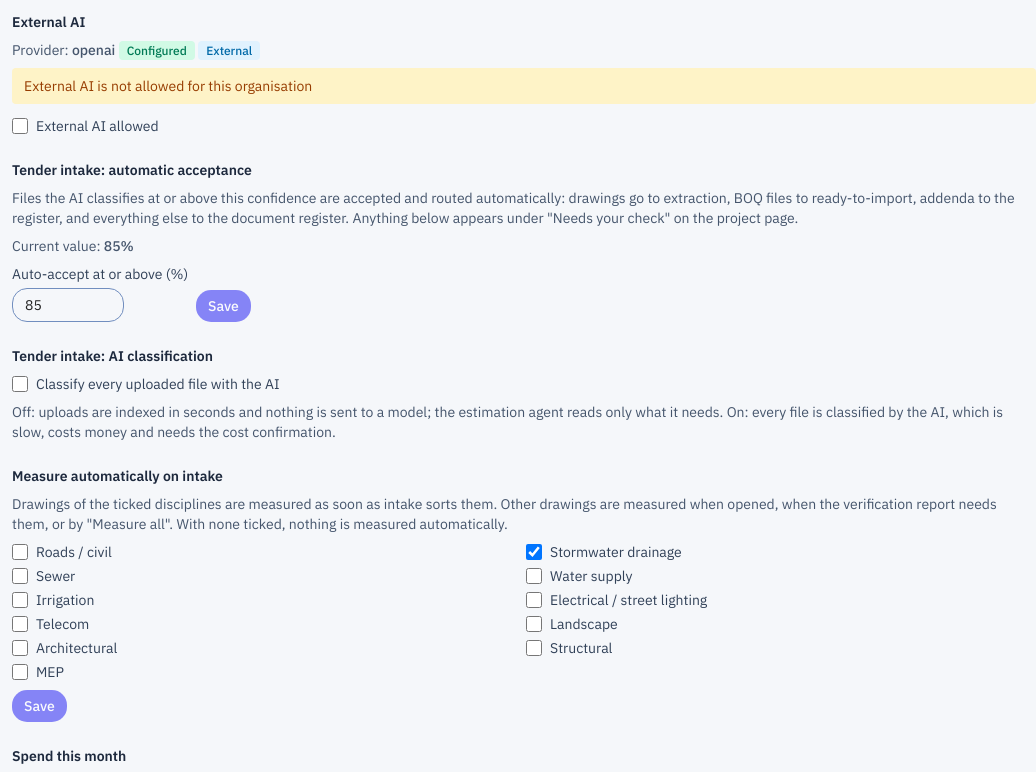
Test: AiAdmin › intake auto-accept › lets the managing director save a new value
The image size is (1036, 772).
Step 1. Replace the text in the number field labelled "Auto-accept at or above (%)" with "90" → (68, 305), box left=12, top=288, right=124, bottom=322
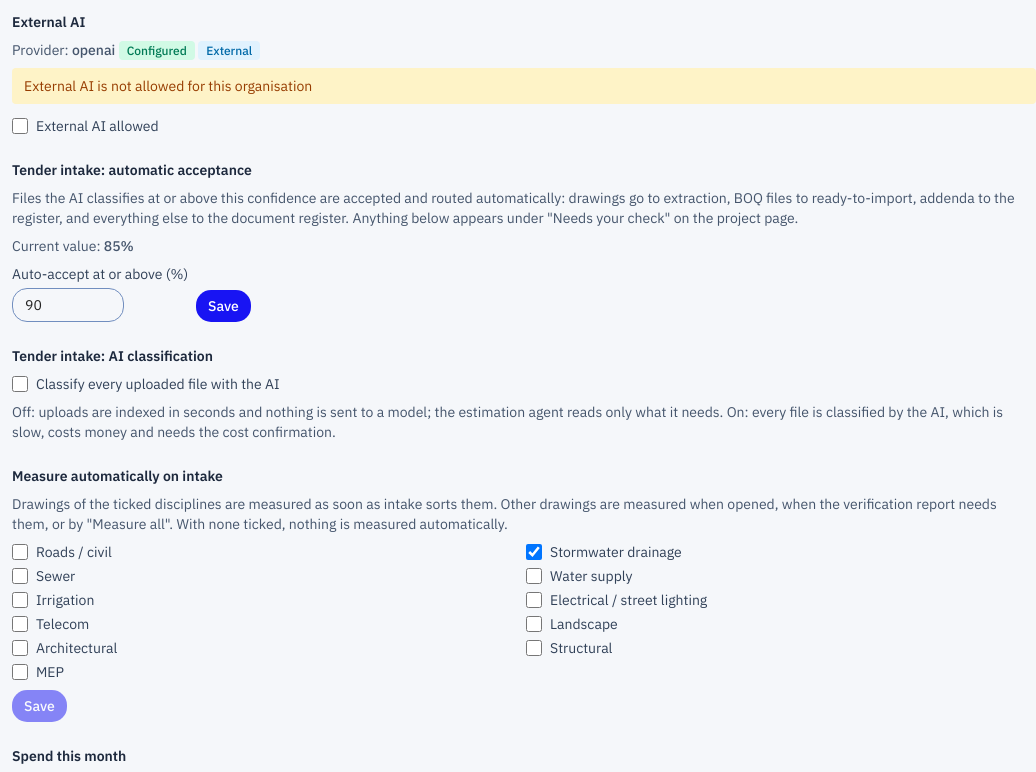
Step 2. Click the button "Save" below "Auto-accept at or above (%)" → (224, 306), box left=196, top=290, right=251, bottom=322
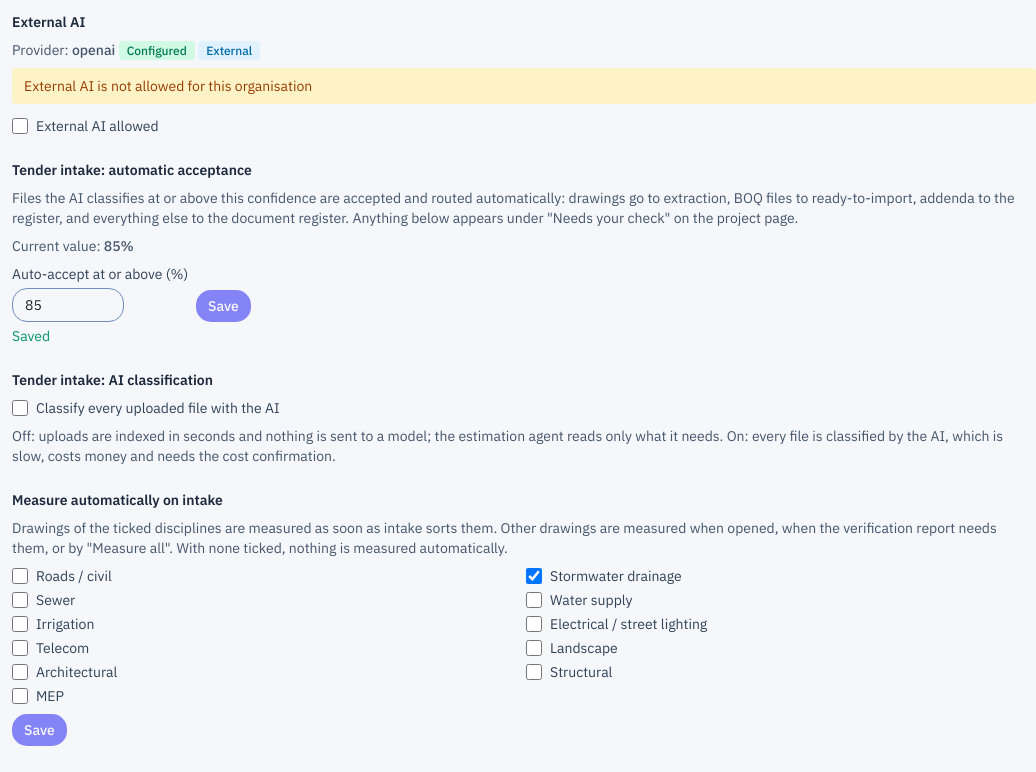
Check: the text "Saved" is shown, box left=12, top=327, right=50, bottom=345
